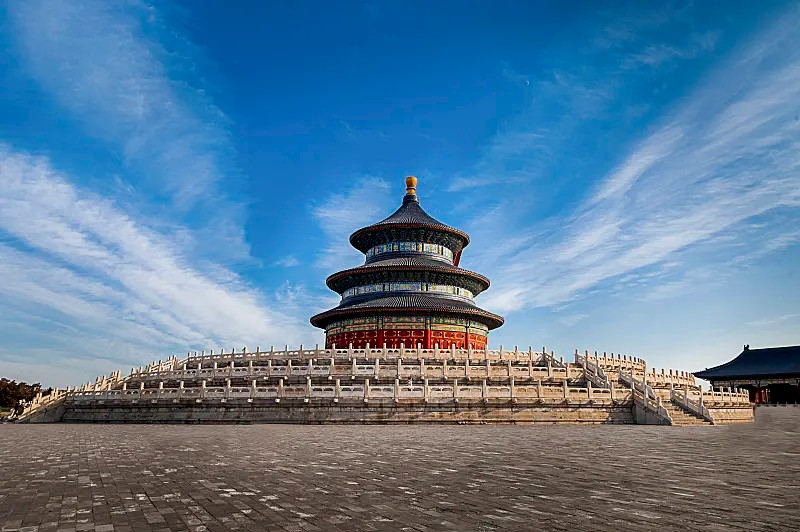Heaven: (309, 174, 504, 351)
